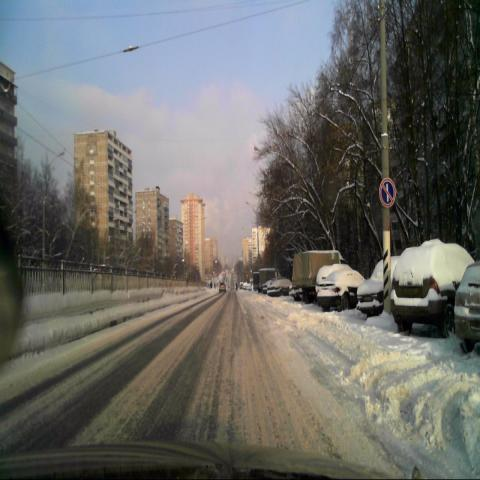3_29: (378, 175, 396, 210)
